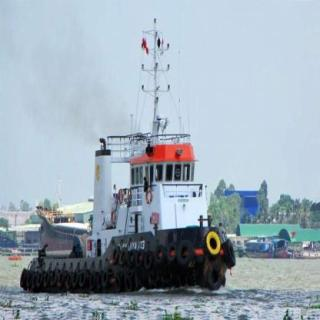Tug Boat: (36, 9, 230, 302)
